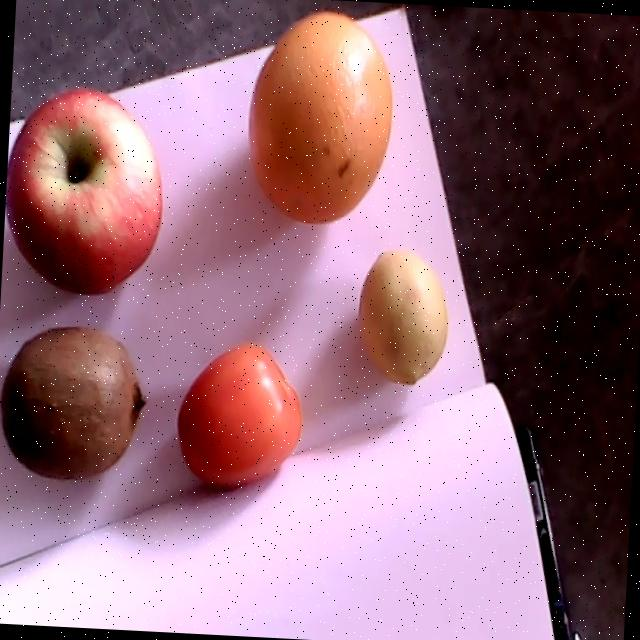apple: (6, 88, 163, 294)
kiwi: (0, 325, 148, 479)
lemon: (361, 251, 448, 384)
orange: (247, 9, 394, 224)
tomato: (176, 342, 301, 481)
